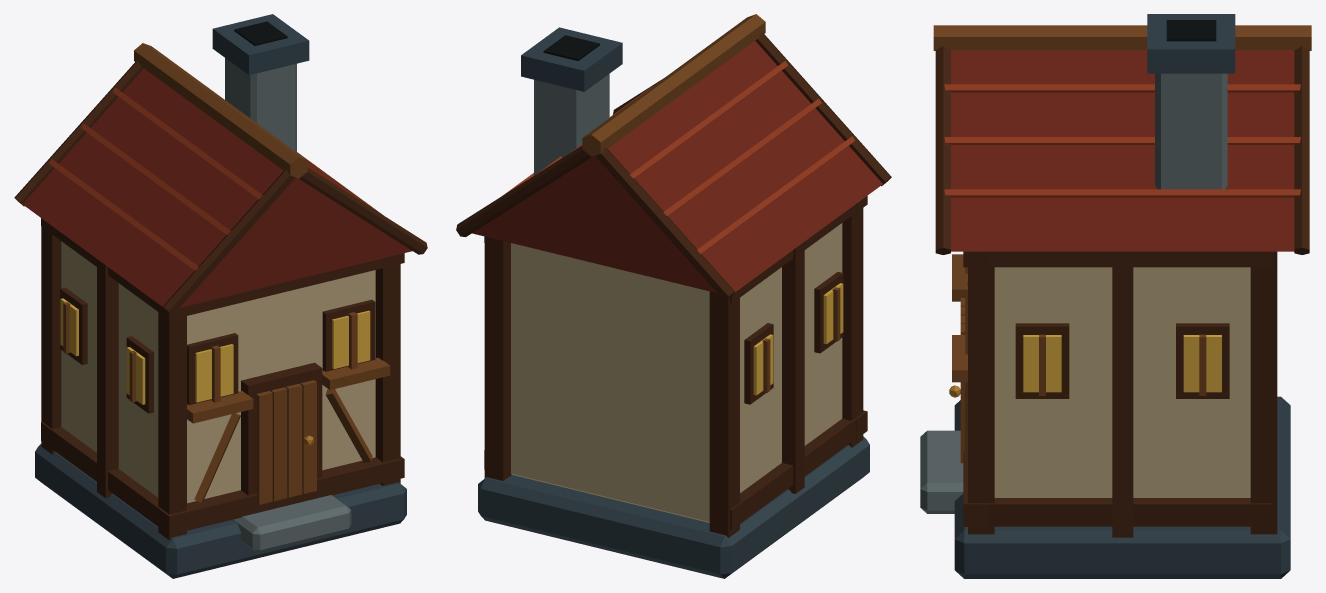
The model's file is House.fbx.
The picture shows the model from 3 angles, left to right: view 1: azimuth 30°, elevation 25°; view 2: azimuth 150°, elevation 25°; view 3: azimuth 270°, elevation 25°; orthographic projection. The views are drawn at different scales.
Visible parts, largest first — view 1: House_Mesh; view 2: House_Mesh; view 3: House_Mesh.
Boxes of the visible parts, box(x1,y1,x2,y2) form: House_Mesh: box(14, 14, 427, 578); House_Mesh: box(456, 14, 891, 578); House_Mesh: box(920, 14, 1311, 578).
Bounding box in the file's own units: 0.9596 × 1.51 × 1.03.
